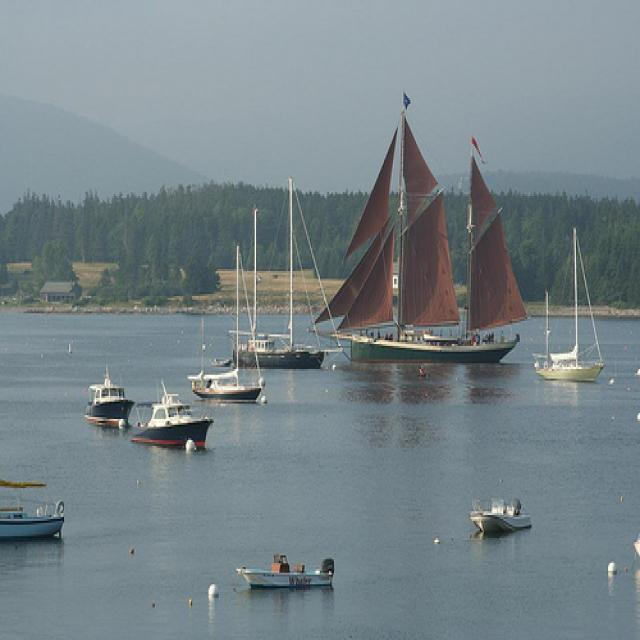Ship: (330, 107, 525, 374), (200, 176, 348, 404), (542, 222, 609, 384)
